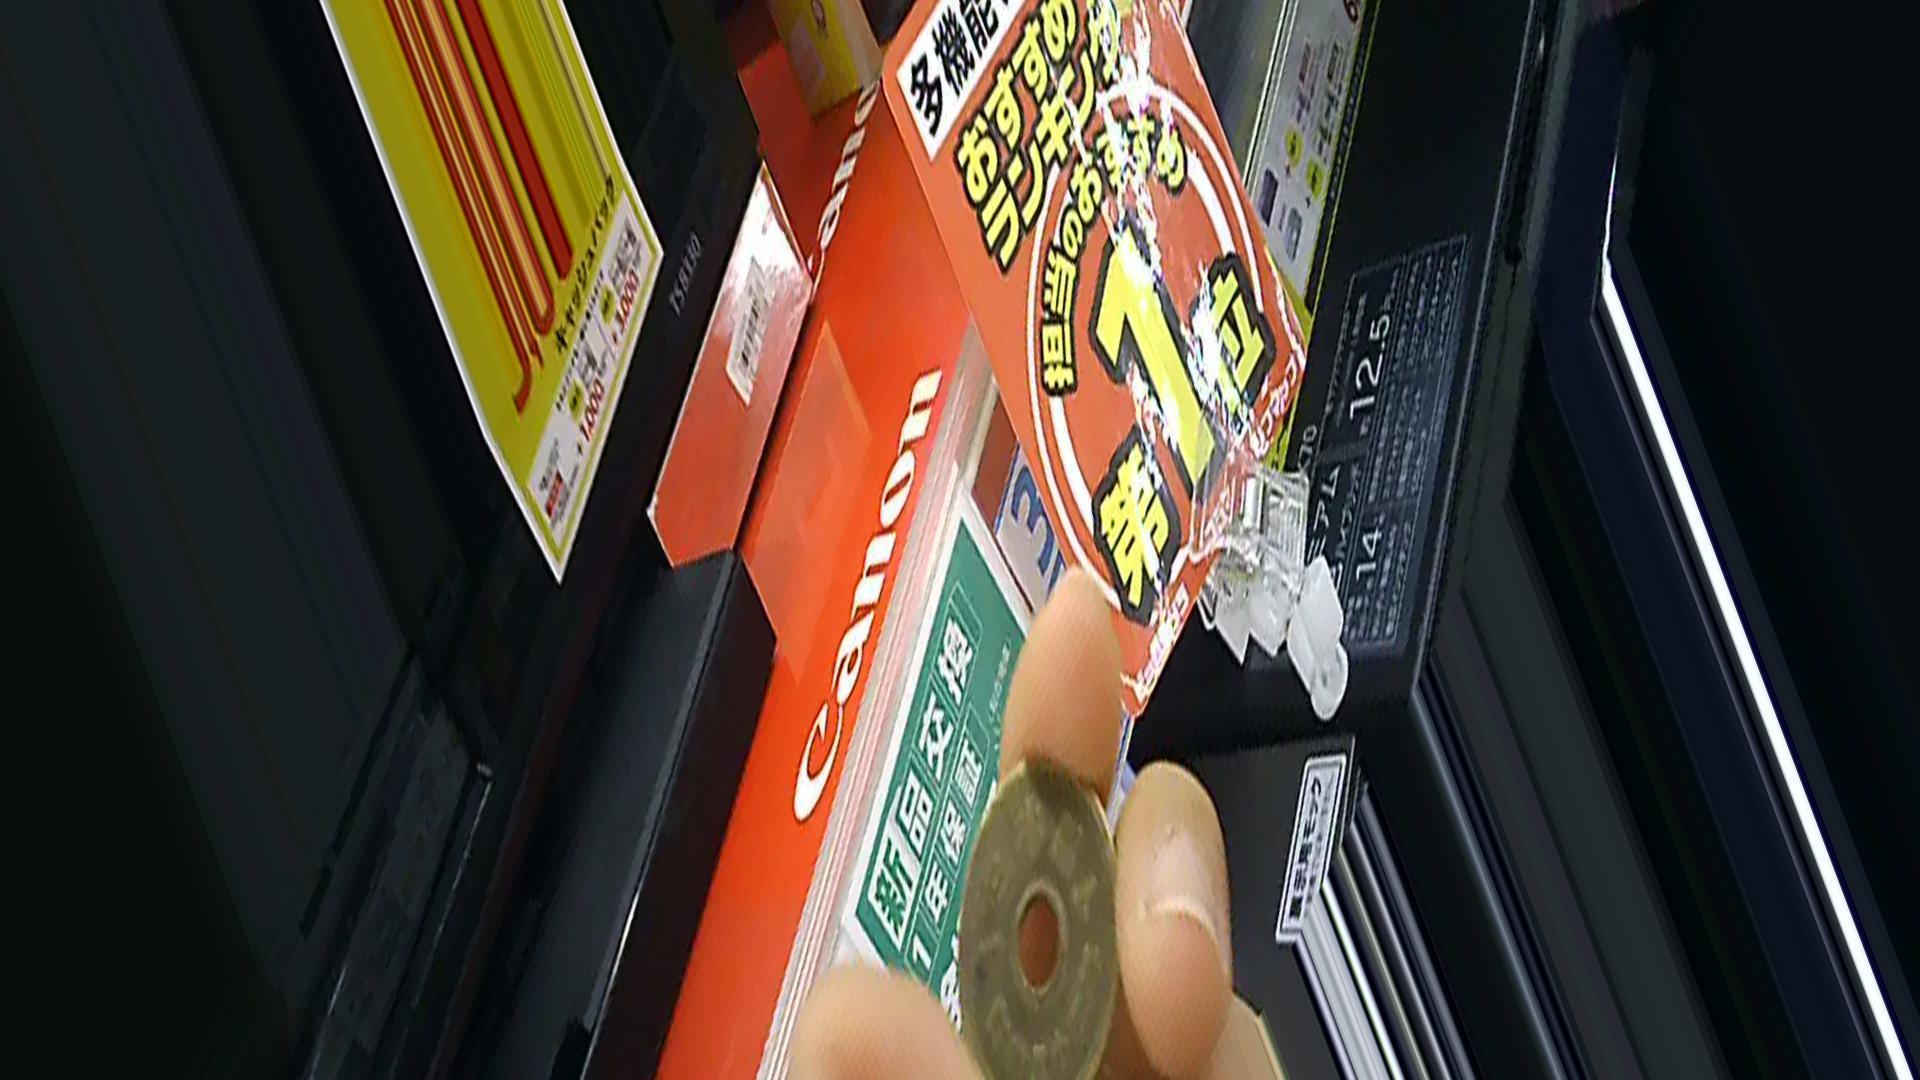5 Yen: (934, 758, 1129, 1079)
